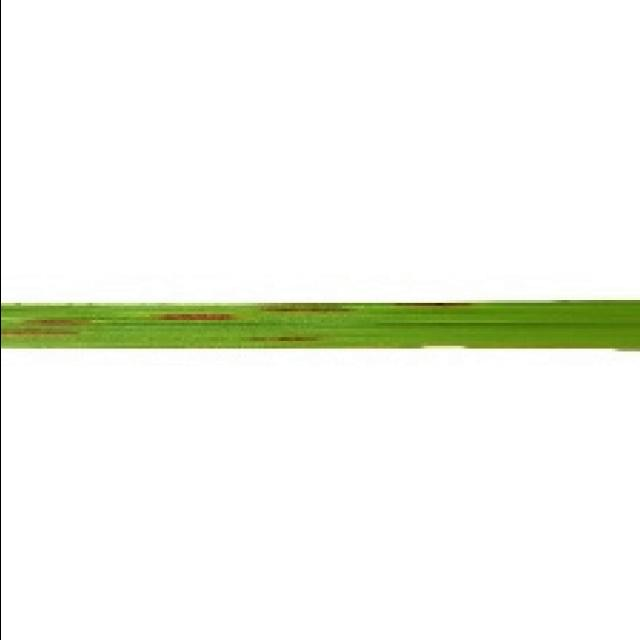Unhealthy: (263, 302, 347, 316), (146, 313, 234, 322), (0, 329, 84, 337), (16, 319, 89, 327), (394, 302, 472, 308), (249, 336, 315, 342), (421, 344, 466, 351)
